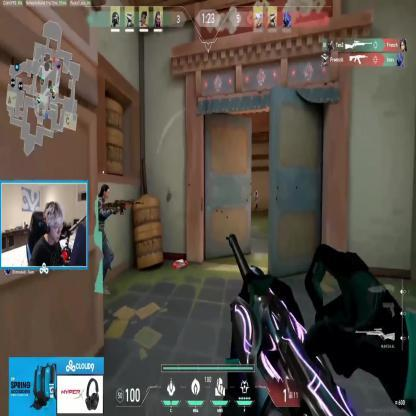enemy: (254, 190, 258, 212)
enemy_head: (256, 189, 258, 194)
